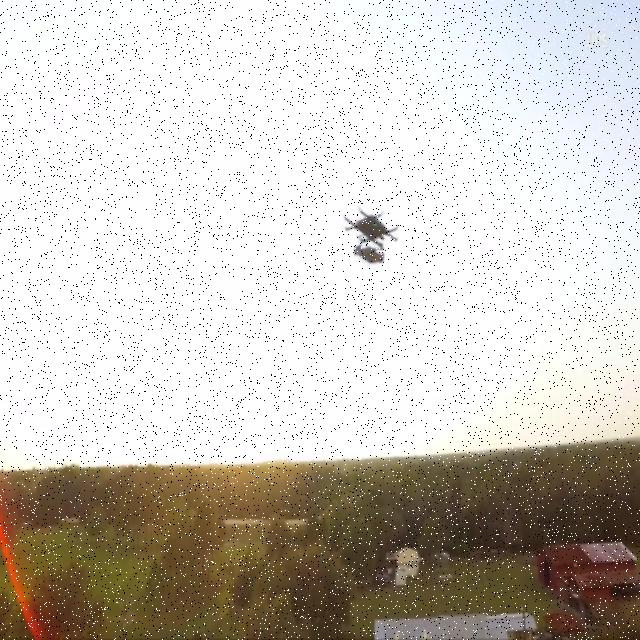UAV: (343, 206, 399, 266)
